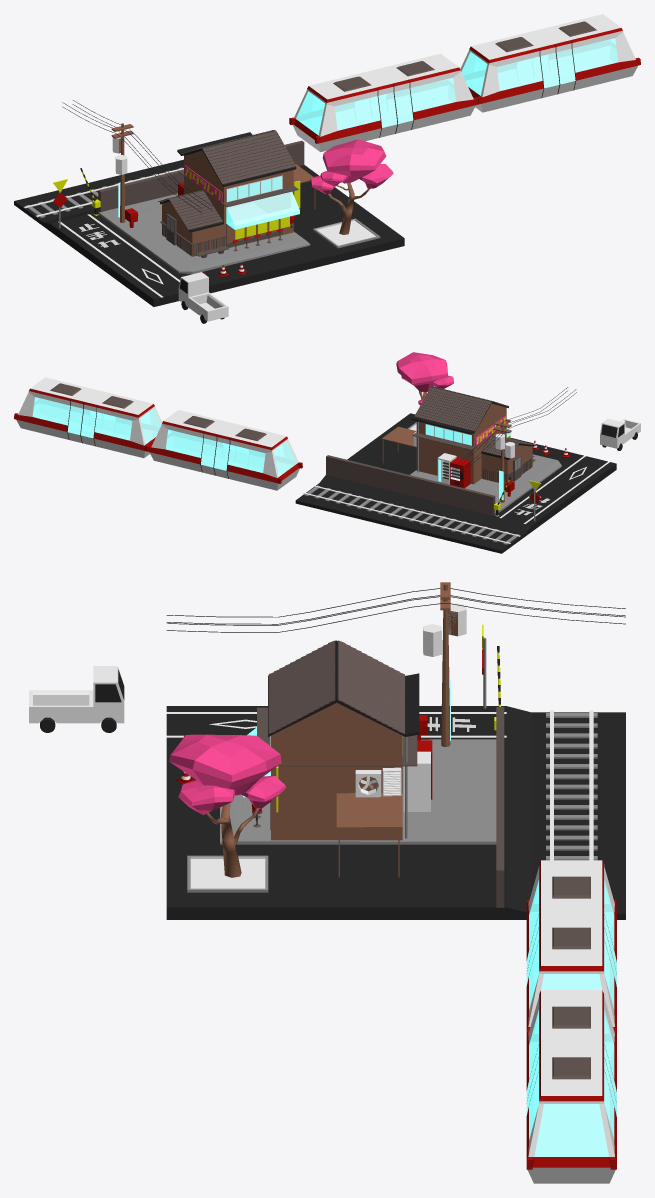
The model's file is paysage-new.gltf.
The picture shows the model from 3 angles, top to bottom: view 1: azimuth 30°, elevation 25°; view 2: azimuth 150°, elevation 25°; view 3: azimuth 270°, elevation 25°; orthographic projection. The views are drawn at different scales.
Visible parts, largest first — view 1: wagon, road, house, trottoir.001, tuiles2, fleats, wall, car, tuiles3, earth, cable, roadstrip (+5 smaller); view 2: wagon, road, house, wall, tuiles1, trottoir.001, fleats, repeatRails, car, rails, machineBoisson2, cable (+4 smaller); view 3: road, wagon, house, trottoir.001, fleats, tuiles2, tuiles1, car, repeatRails, earth, cable, wall (+6 smaller).
Part boxes in pixels (x1,y1,x2,y2): wagon: (289,14,640,151); road: (14,159,404,306); house: (160,130,315,256); trottoir.001: (99,193,310,274); tuiles2: (202,131,296,184); fleats: (310,139,393,194); wall: (98,140,304,212); car: (178,272,228,321); tuiles3: (169,191,222,229); earth: (313,218,380,248); cable: (62,100,212,212); roadstrip: (58,214,179,297); wagon: (14,377,302,490); road: (295,413,616,553); house: (381,387,534,484); wall: (326,455,495,515); tuiles1: (414,387,491,430); trottoir.001: (410,454,561,514); fleats: (396,352,453,405); repeatRails: (304,485,519,544); car: (600,418,640,448); rails: (303,485,520,544); machineBoisson2: (450,457,470,488); cable: (453,387,576,472); road: (166,706,625,919); wagon: (526,860,616,1183); house: (243,640,419,877); trottoir.001: (220,739,496,844); fleats: (169,734,285,815); tuiles2: (268,640,335,733); tuiles1: (338,640,404,733); car: (29,666,124,723); repeatRails: (546,713,597,860); earth: (187,855,268,892); cable: (166,588,625,632); wall: (496,707,504,907).
Bounding box in the file's own units: 40.95 × 7.04 × 21.43.
